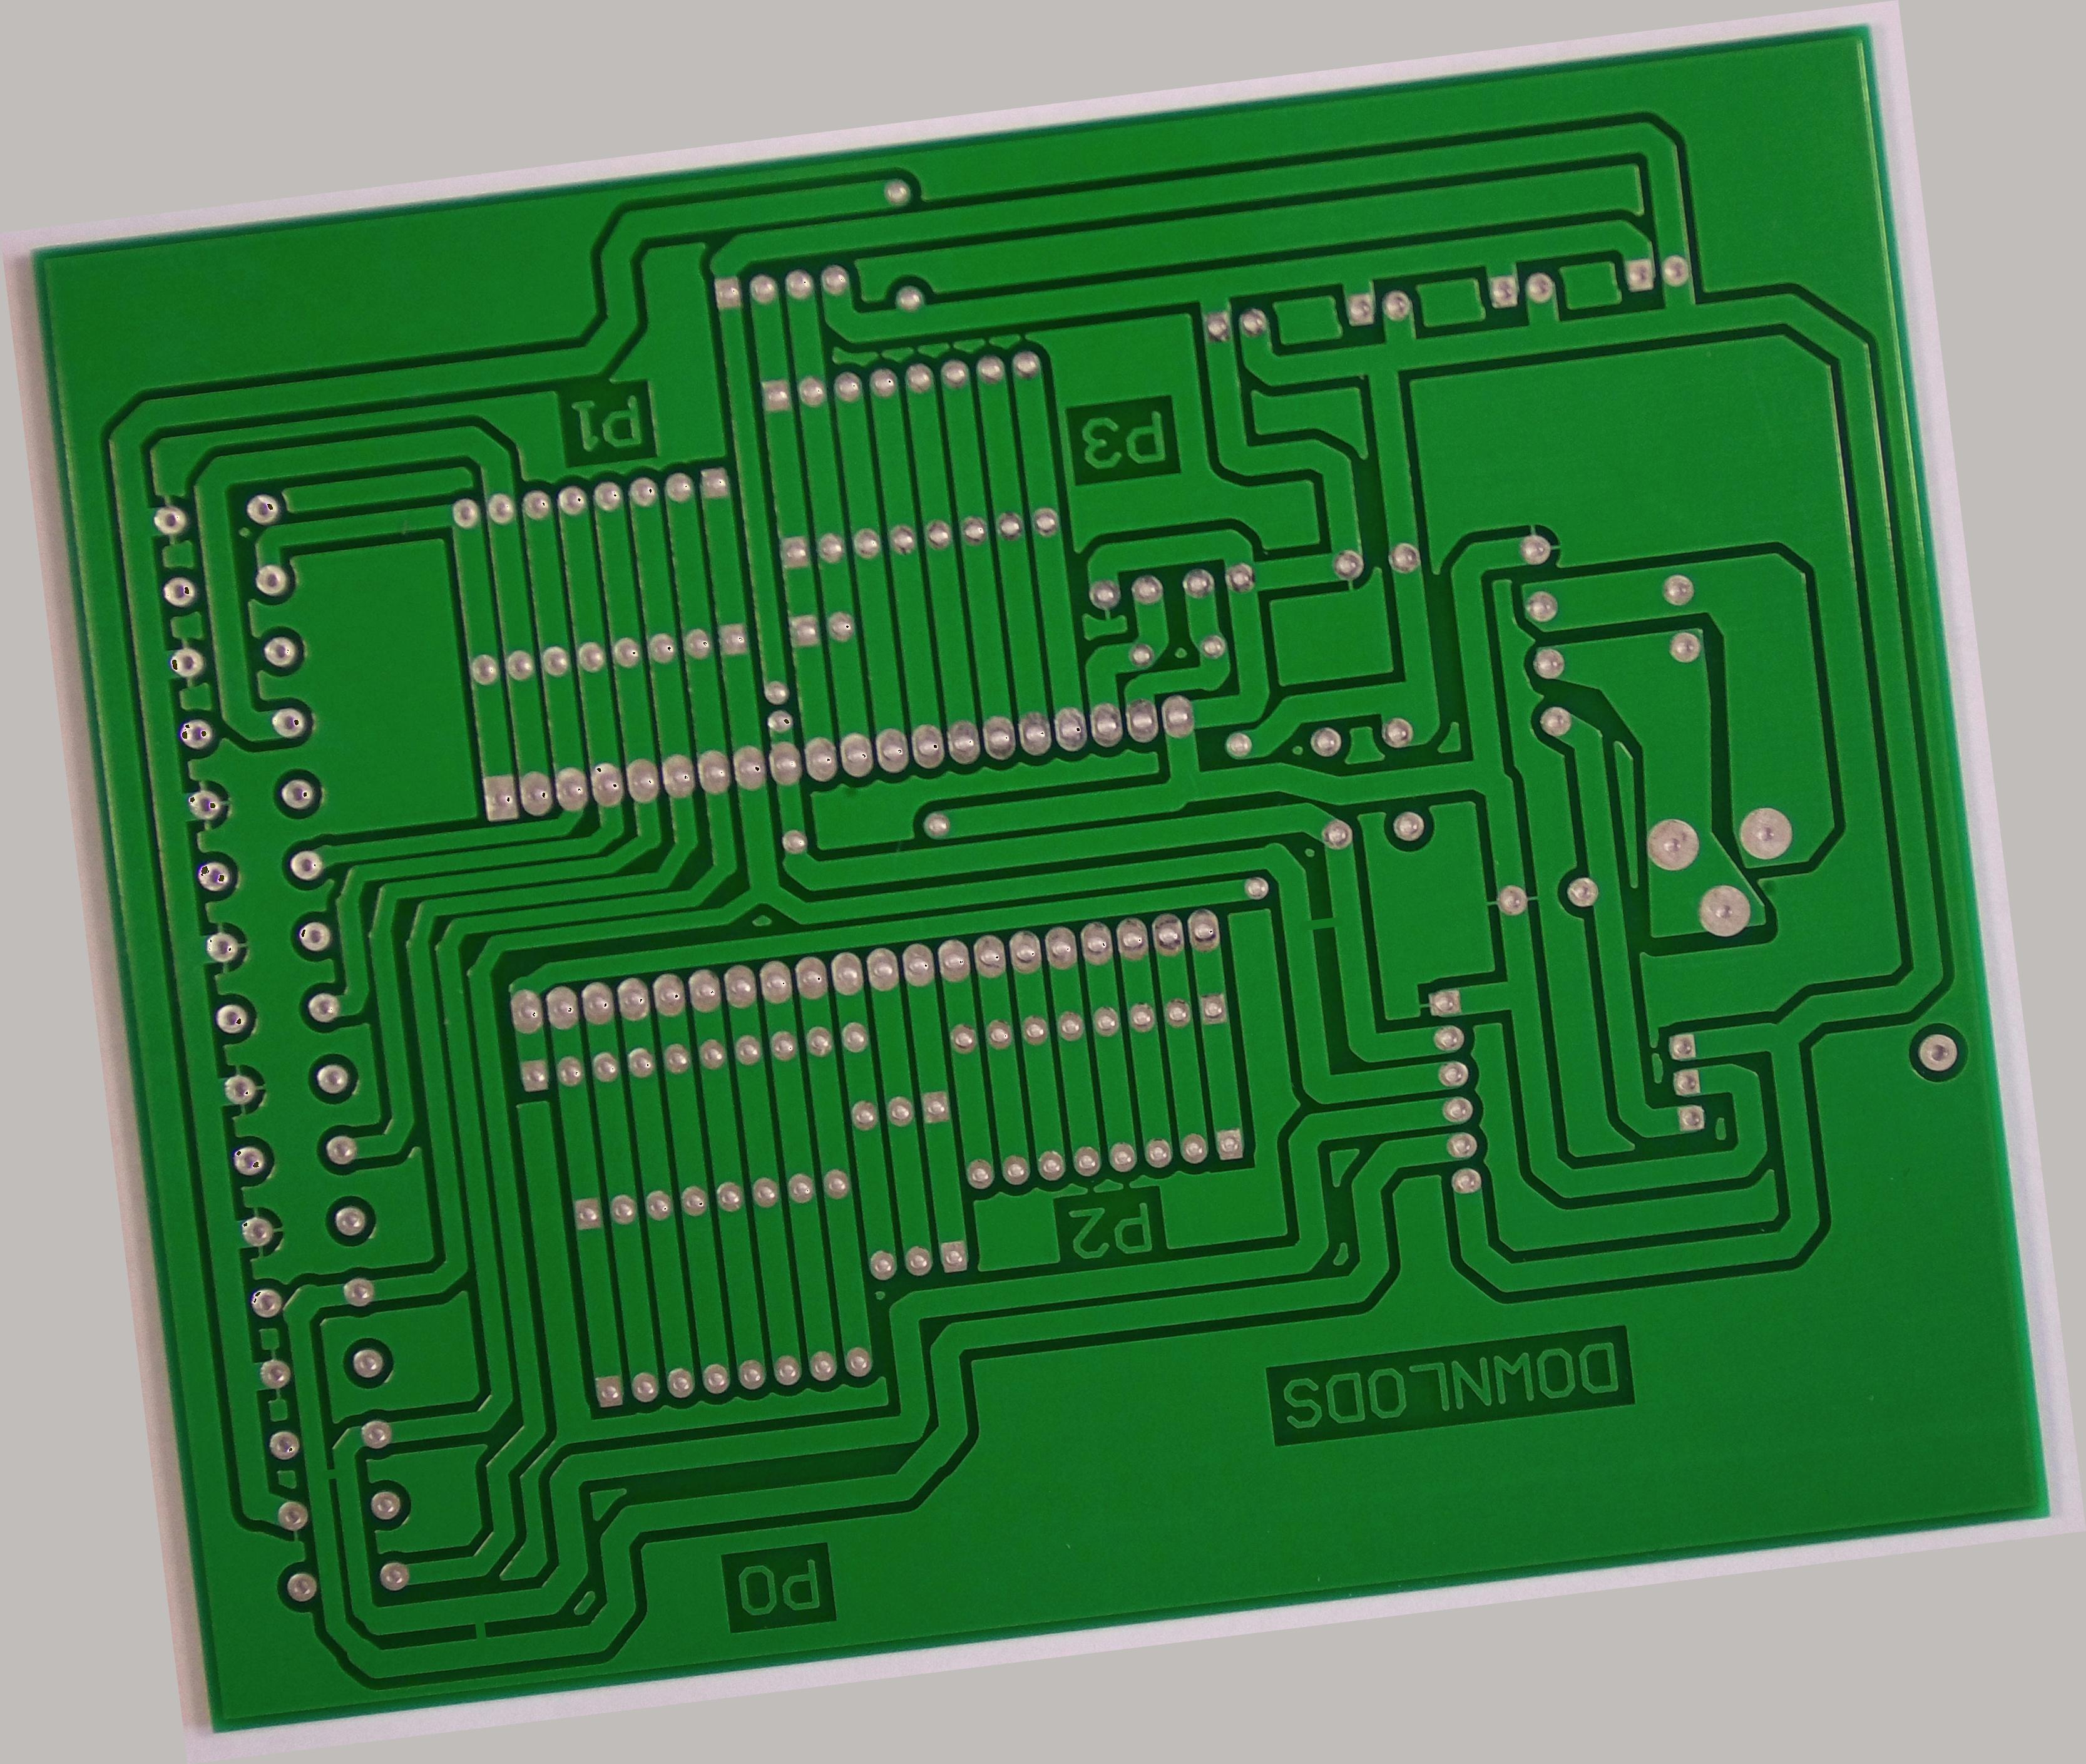short: (1277, 884, 1370, 964), (446, 1578, 527, 1666), (297, 1431, 367, 1503)
